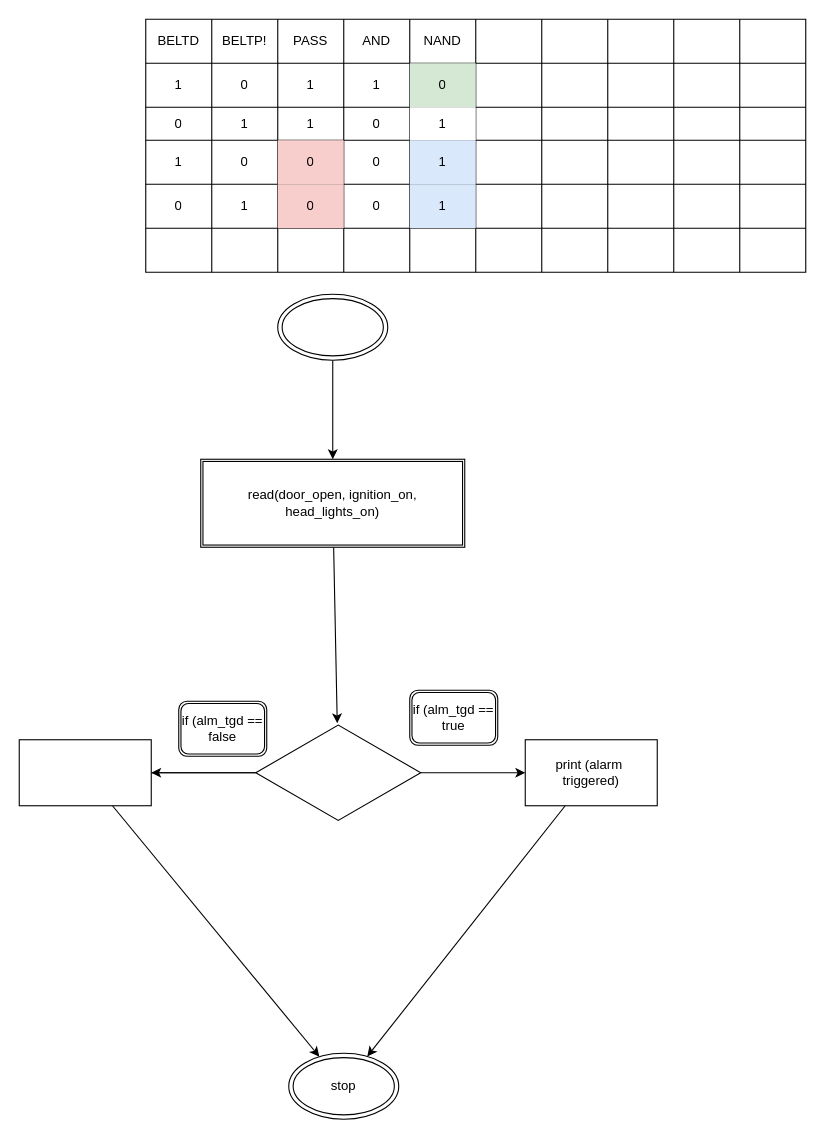
Image size: 825x1139. Some labels were removed from this diagram. Each missing label, with the centre of its shape:
"check alram status" belongs at point 338,772.
"print (alarm not triggered" belongs at point 84,772.
"start" belongs at point 332,326.
